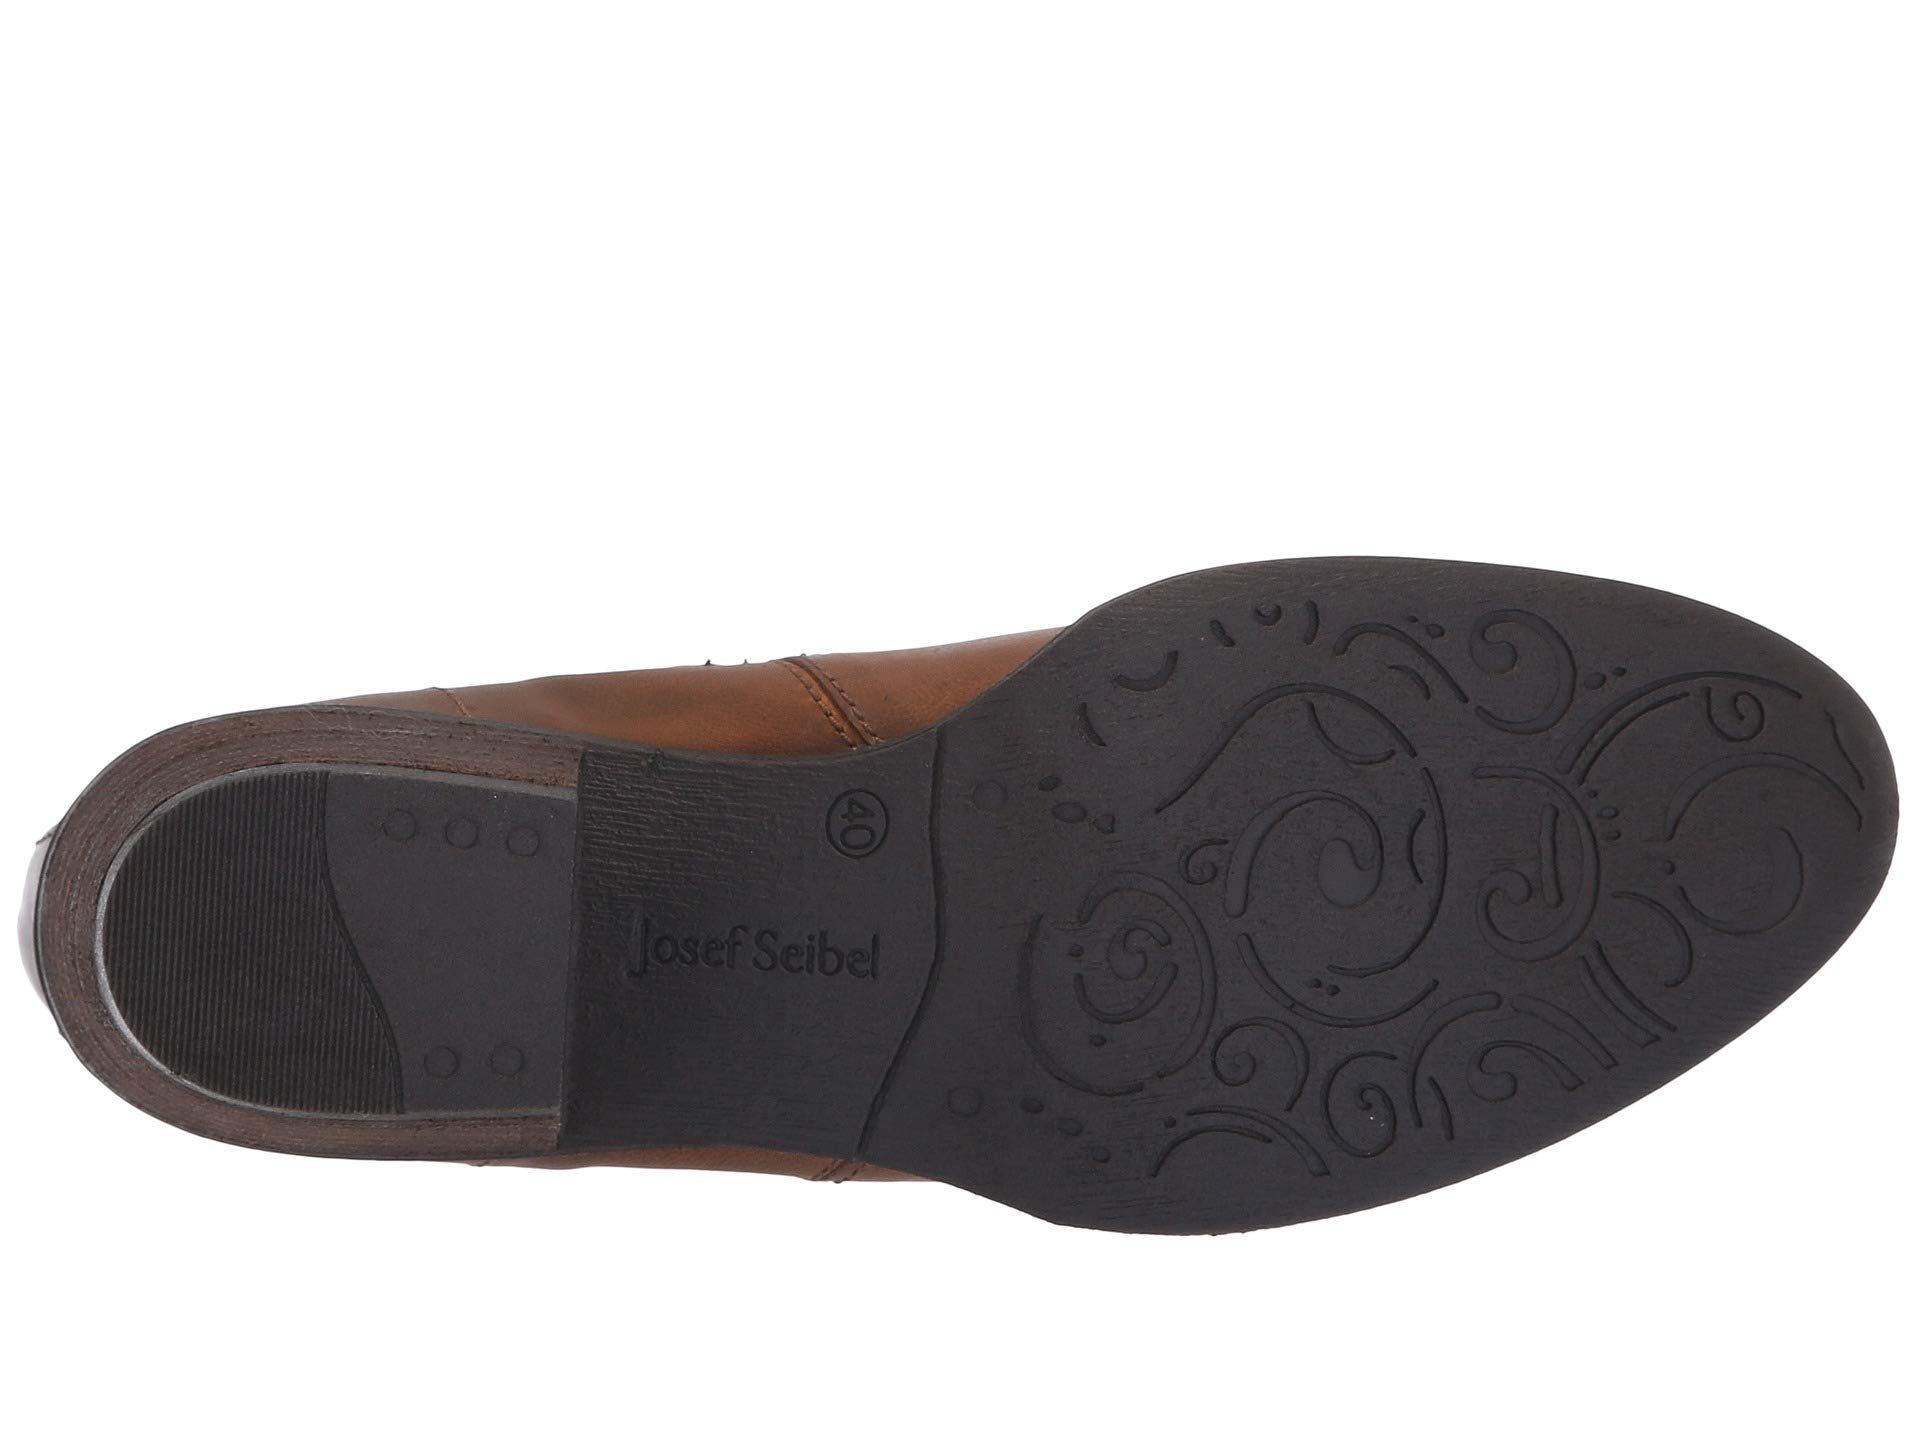circle: (797, 759, 919, 895)
text: (797, 759, 919, 895)
